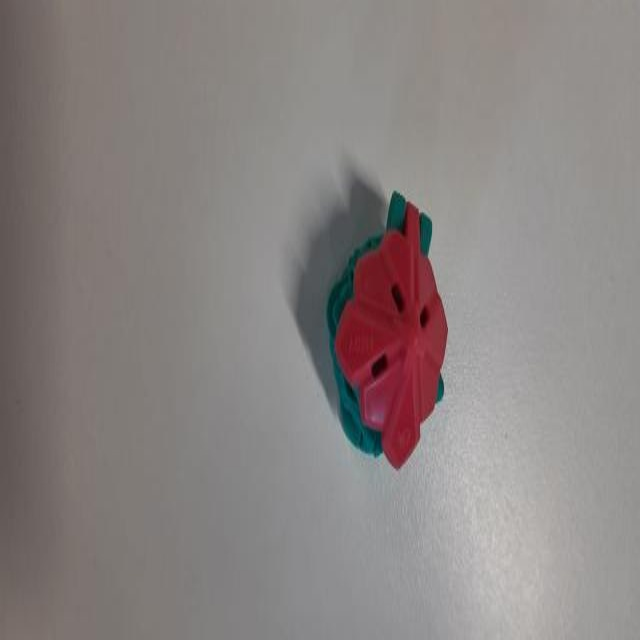House: (314, 183, 458, 515)
